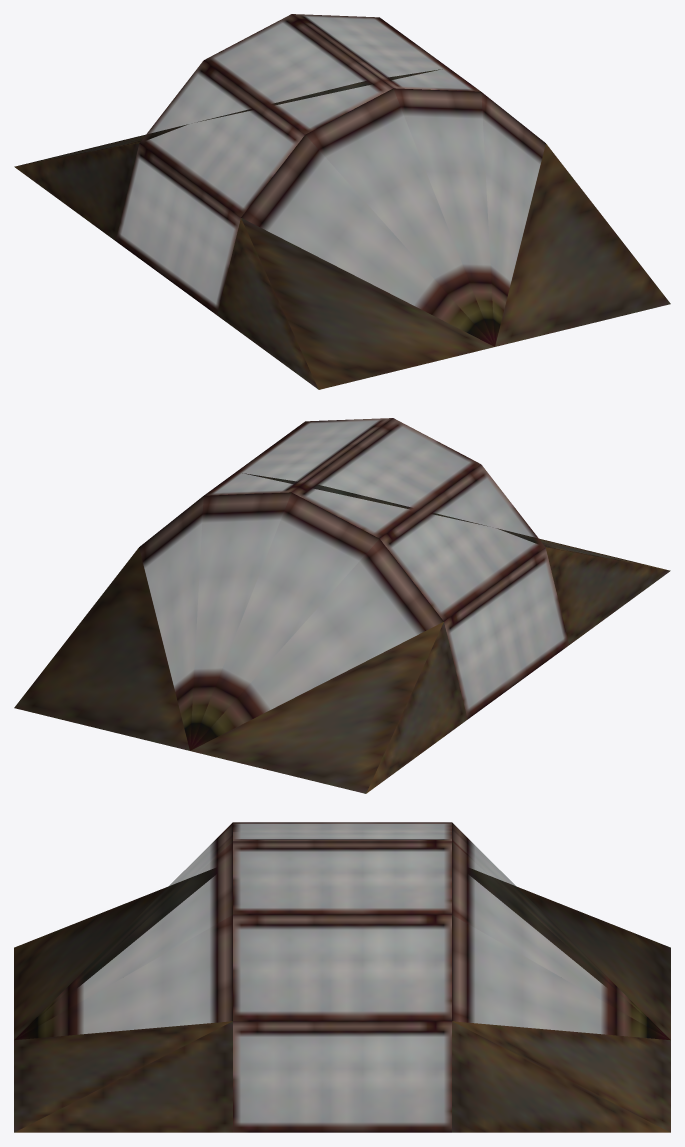
Rendered from prop-079.glb.
3 views of the same model, one above another, from view 1: azimuth 30°, elevation 25°; view 2: azimuth 150°, elevation 25°; view 3: azimuth 270°, elevation 25° (orthographic). The views are drawn at different scales.
Parts seen in each view (by area): view 1: root; view 2: root; view 3: root.
Boxes of the visible parts, x1,y1,x2,y2 form: root: (14, 14, 670, 389); root: (14, 418, 670, 793); root: (14, 822, 670, 1132).
Size of the model in its own units: 2 by 1 by 3.
2 materials, 2 textured.
